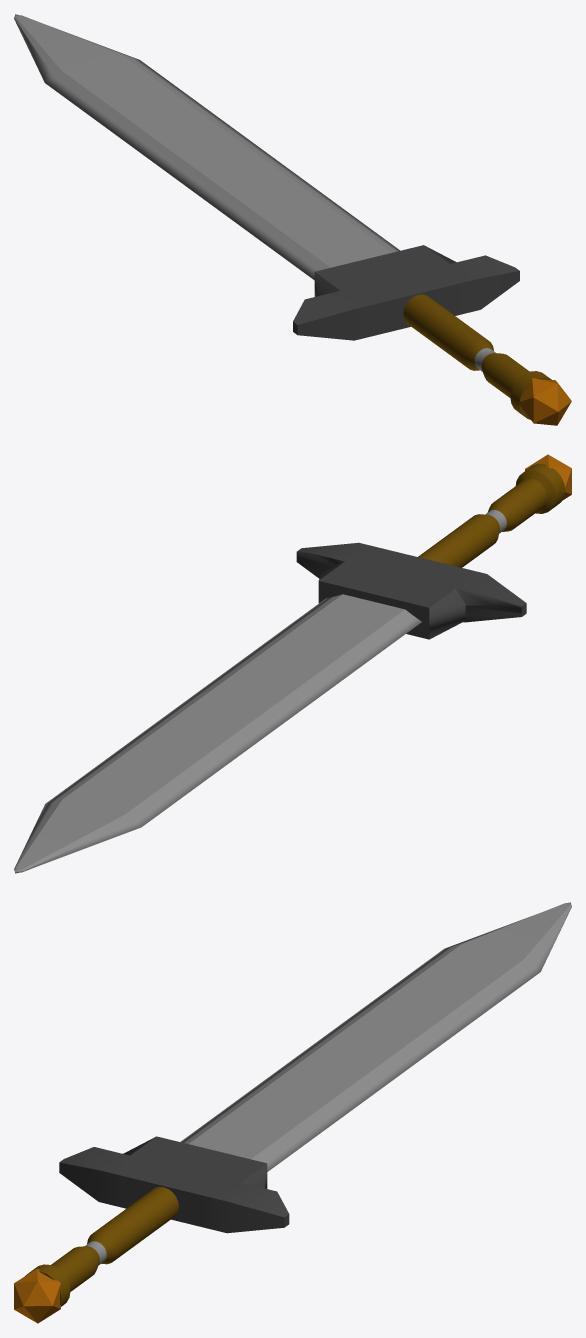
The model's file is chonky_sword.fbx.
3 views of the same model, one above another, from view 1: azimuth 30°, elevation 25°; view 2: azimuth 150°, elevation 25°; view 3: azimuth 330°, elevation 25° (orthographic).
Visible parts, largest first — view 1: polySurface288; view 2: polySurface288; view 3: polySurface288.
Part boxes in pixels (box(x1,y1,x2,y2)): polySurface288: box(14, 14, 571, 425); polySurface288: box(14, 454, 571, 873); polySurface288: box(14, 902, 571, 1323).
Bounding box in the file's own units: 91.71 × 16.66 × 387.
